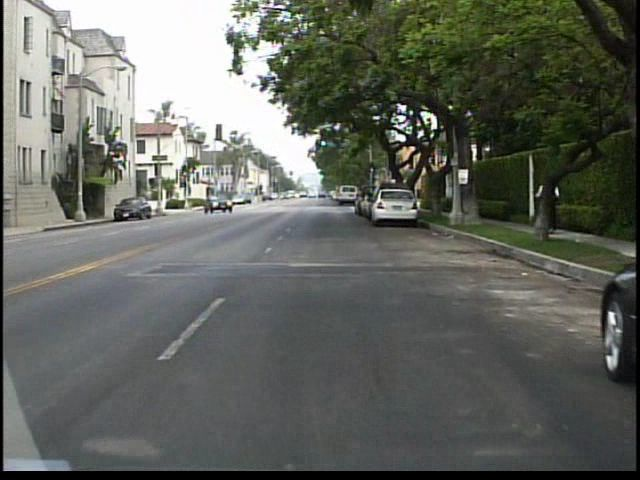person: (528, 168, 562, 244)
